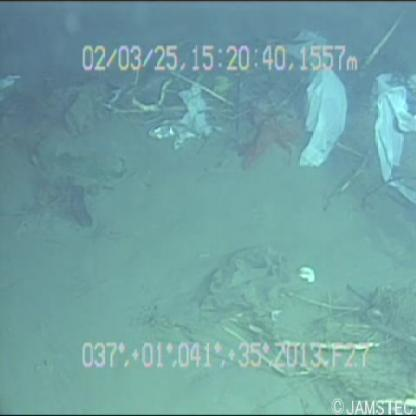Rác: (252, 26, 348, 168), (367, 56, 416, 226), (144, 78, 216, 160)
